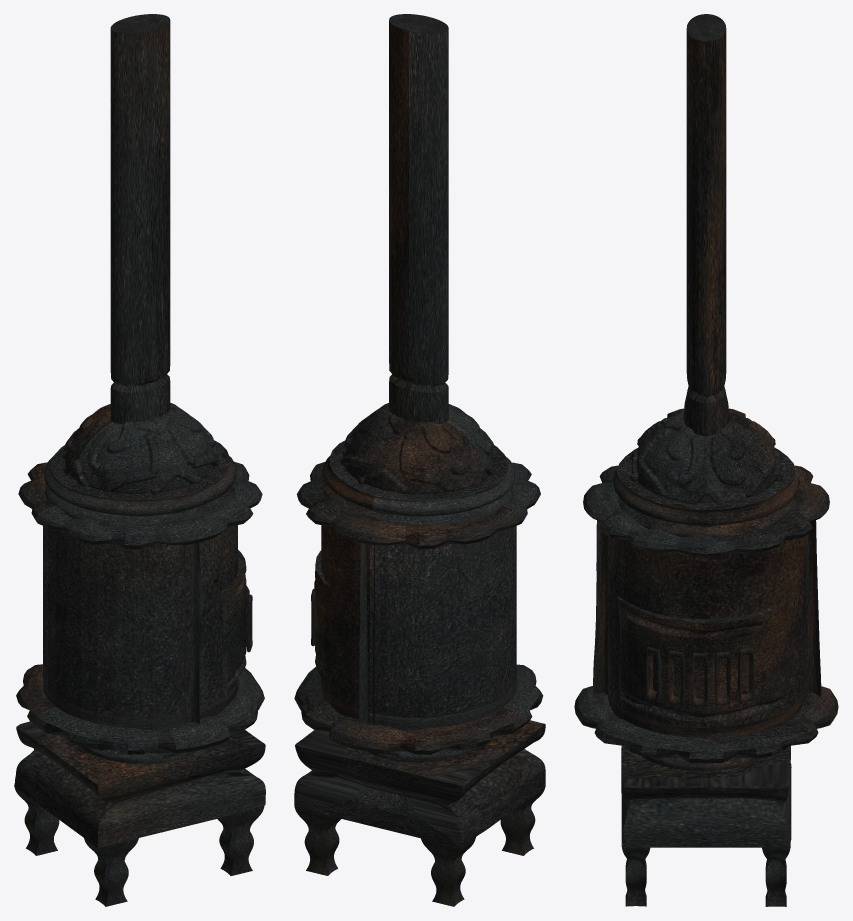
The model's file is Stove.fbx.
3 renders of one model, left to right at view 1: azimuth 30°, elevation 25°; view 2: azimuth 150°, elevation 25°; view 3: azimuth 270°, elevation 25°, orthographic.
Parts seen in each view (by area): view 1: Cube; view 2: Cube; view 3: Cube.
Boxes of the visible parts, x1,y1,x2,y2 form: Cube: [14, 14, 265, 906]; Cube: [294, 14, 545, 906]; Cube: [574, 14, 838, 906].
Size of the model in its own units: 250 by 942 by 267.
Materials: 21 (21 with a texture image).
